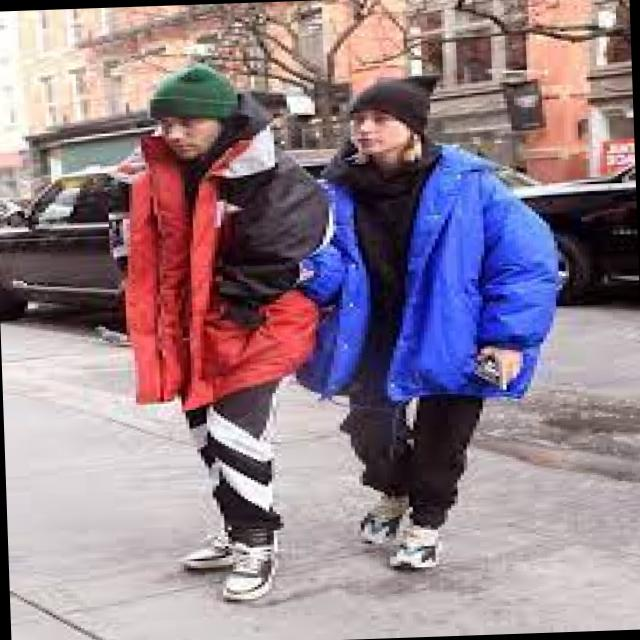Jacket: (284, 125, 582, 404), (92, 120, 336, 408)
